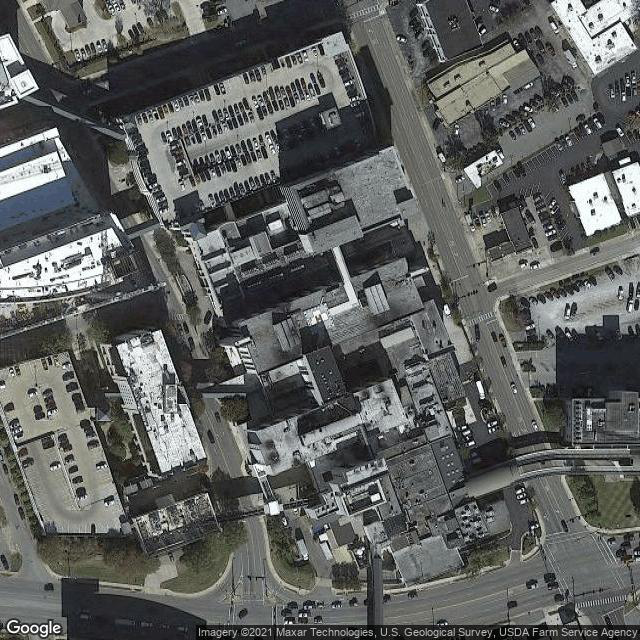Helipad: (302, 303, 336, 331)
